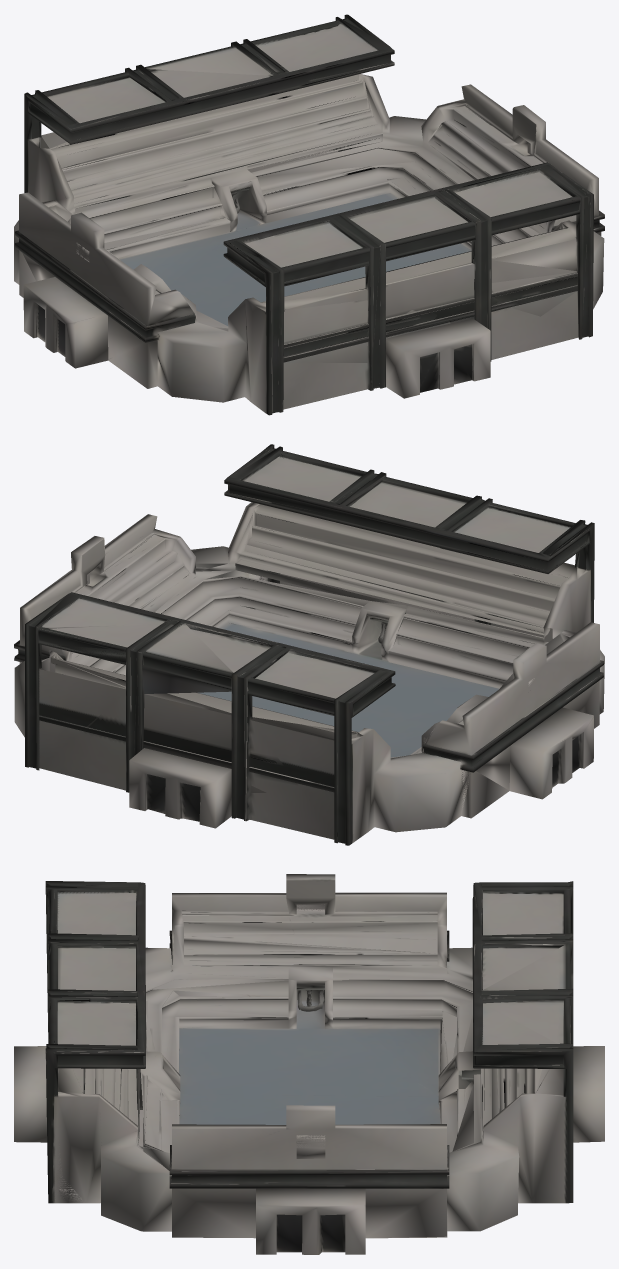
The model's file is 35-small-stadium.glb.
The picture shows the model from 3 angles, top to bottom: view 1: azimuth 30°, elevation 25°; view 2: azimuth 150°, elevation 25°; view 3: azimuth 270°, elevation 25°; orthographic projection. The views are drawn at different scales.
Parts seen in each view (by area): view 1: geometry_0; view 2: geometry_0; view 3: geometry_0.
Part boxes in pixels (x1,y1,x2,y2): geometry_0: [14, 14, 604, 415]; geometry_0: [14, 444, 604, 845]; geometry_0: [14, 874, 604, 1254].
Bounding box in the file's own units: 0.9497 × 0.2515 × 0.8745.
1 material, 1 textured.
